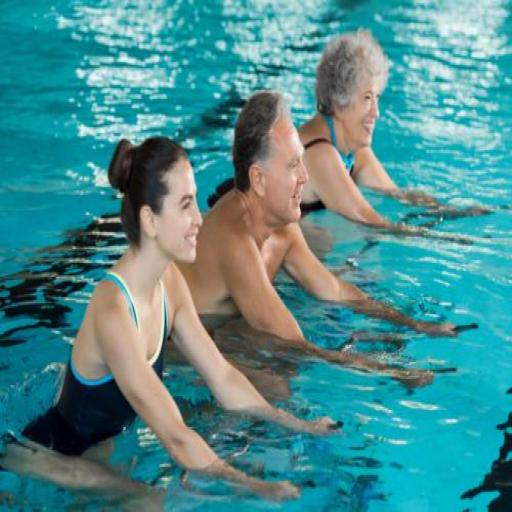swimming: (0, 133, 342, 510), (170, 86, 478, 404), (293, 26, 497, 246)
